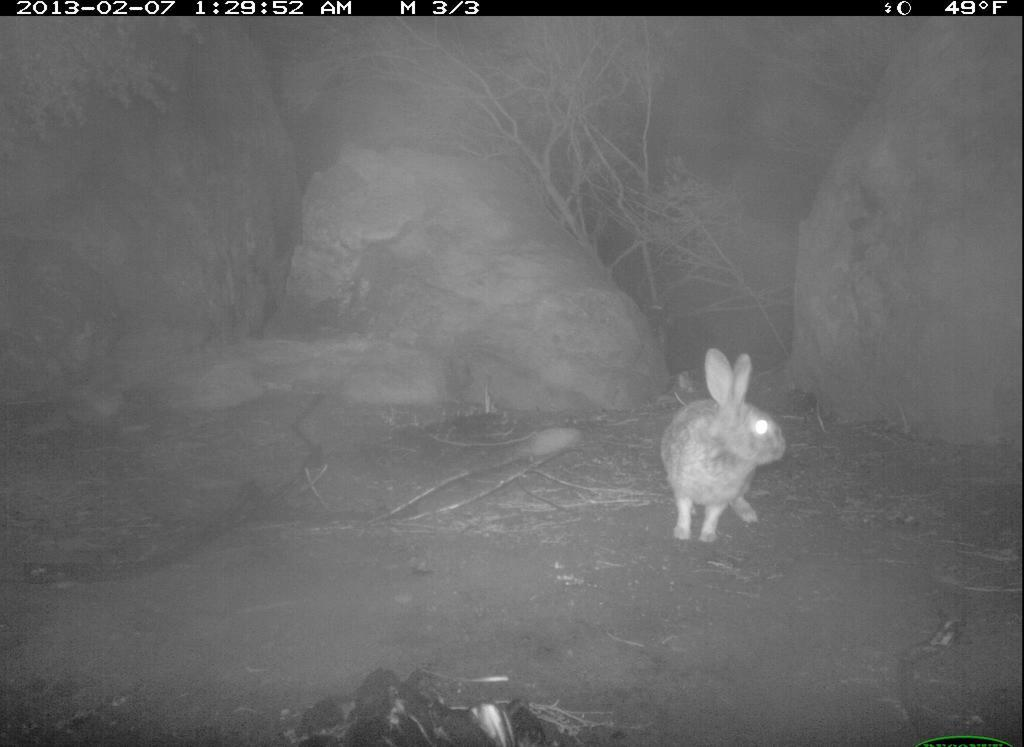rabbit: (662, 350, 811, 553)
